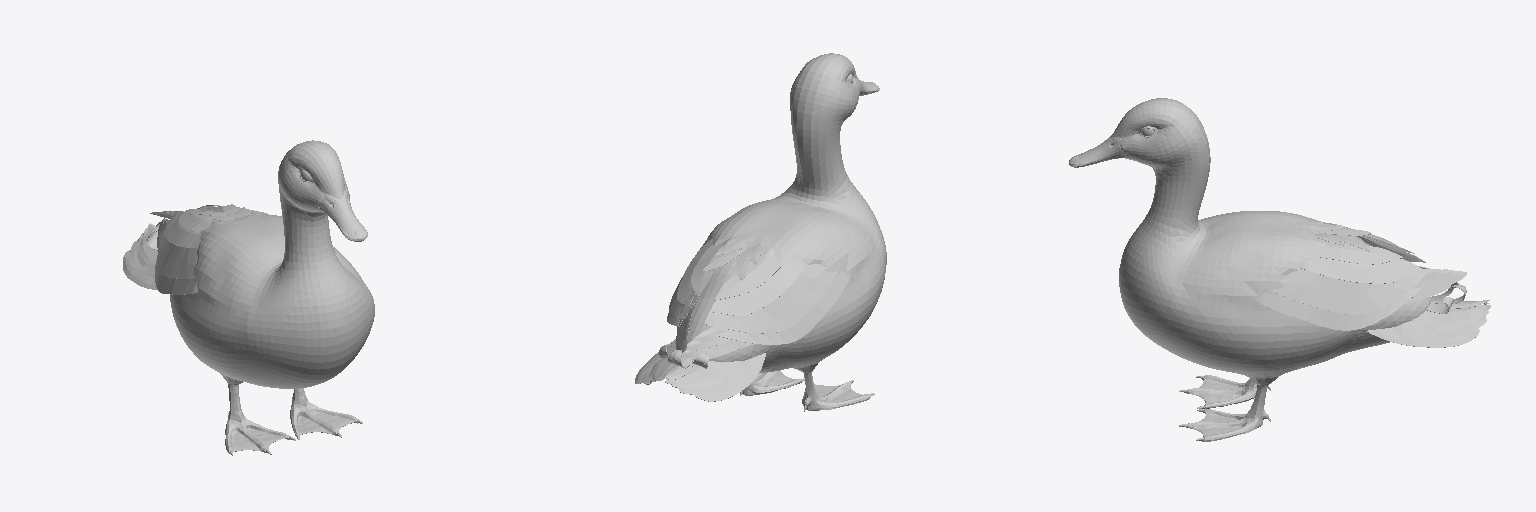
The model's file is mamaduck.obj.
3 renders of one model, left to right at view 1: azimuth 30°, elevation 25°; view 2: azimuth 150°, elevation 25°; view 3: azimuth 270°, elevation 25°, orthographic.
Parts seen in each view (by area): view 1: duck.1; view 2: duck.1; view 3: duck.1.
Part boxes in pixels (bbox=[...]): duck.1: bbox=[123, 140, 374, 455]; duck.1: bbox=[635, 53, 886, 411]; duck.1: bbox=[1069, 98, 1490, 441].
Size of the model in its own units: 2.39 by 4.44 by 5.48.